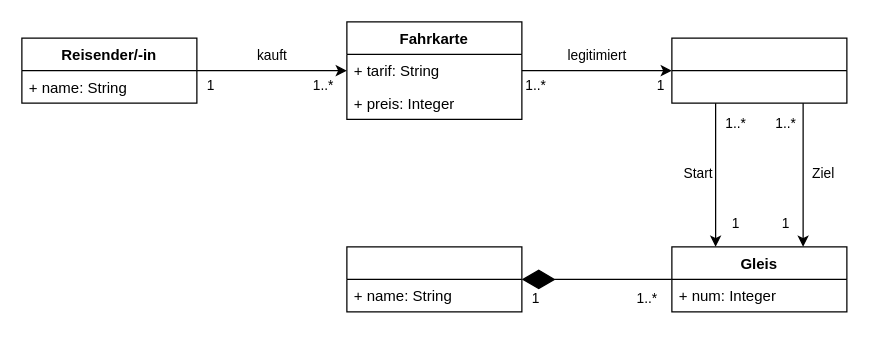
Image size: 869x338. Some labels were removed from this diagram. The box of each missing label's shape, as (x1, y1, x2, y2) in pixels:
Station: (346, 246, 522, 312)
Strecke: (671, 37, 847, 103)
